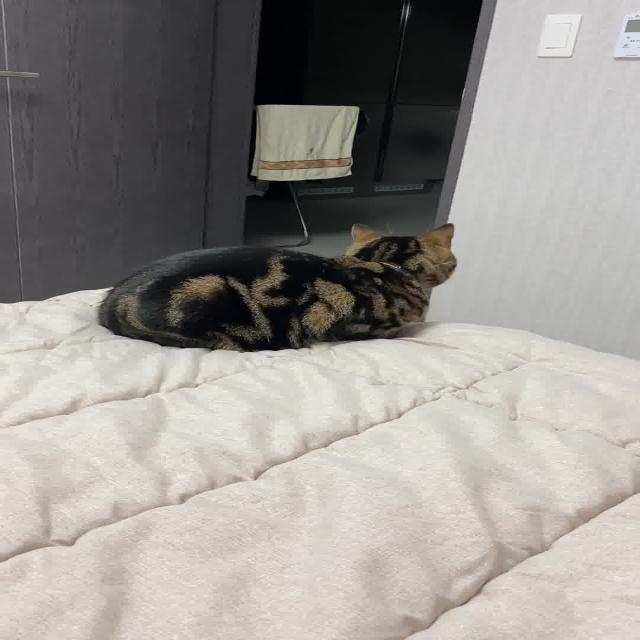cat: (92, 214, 470, 356)
